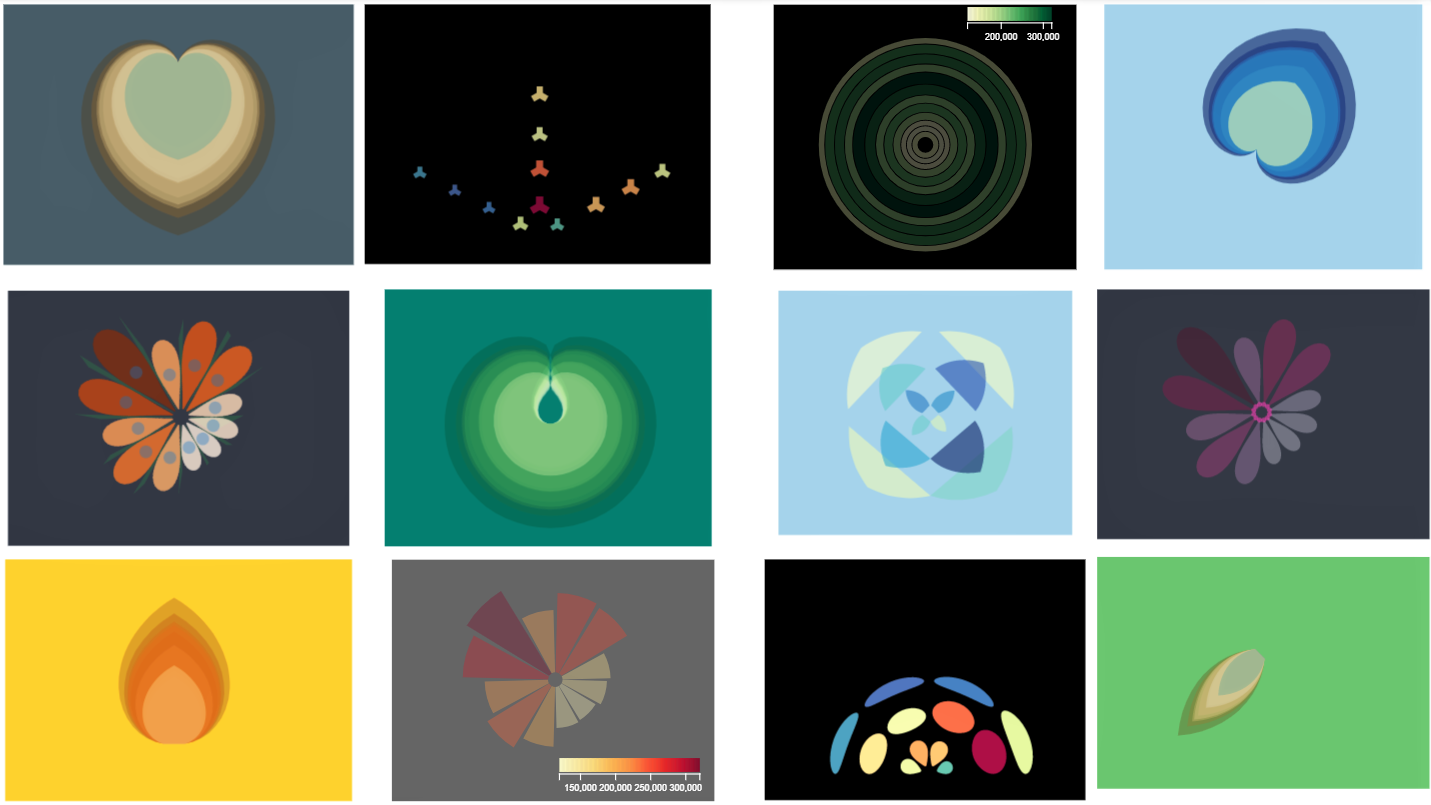

Layout of this report page (visuals, bound fields, positions):
{"tool":"powerbi","page":{"name":"Page 8","canvas":[1280,720],"ordinal":0},"visuals":[{"type":"charticulator58556A88422D44A99D9BF0052B958F87","fields":{"primarykey":["steps_by_month.Month","steps_by_month.Steps"]},"box":[0,0,322,246],"z":0},{"type":"charticulator58556A88422D44A99D9BF0052B958F87","fields":{"primarykey":["steps_by_month.Month","steps_by_month.Steps"]},"box":[677.8,0,295.5,246],"z":1000},{"type":"charticulator58556A88422D44A99D9BF0052B958F87","fields":{"primarykey":["steps_by_month.Month","steps_by_month.Steps"]},"box":[338.9,494.5,309.9,225.5],"z":2000},{"type":"charticulator58556A88422D44A99D9BF0052B958F87","fields":{"primarykey":["steps_by_month.Month","steps_by_month.Steps"]},"box":[677.8,494.5,295.5,225.5],"z":3000},{"type":"charticulator58556A88422D44A99D9BF0052B958F87","fields":{"primarykey":["steps_by_month.Month","steps_by_month.Steps"]},"box":[0,494.5,322,225.5],"z":4000},{"type":"charticulator58556A88422D44A99D9BF0052B958F87","fields":{"primarykey":["steps_by_month.Month","steps_by_month.Steps"]},"box":[658.5,254.5,334.1,227.9],"z":5000},{"type":"charticulator58556A88422D44A99D9BF0052B958F87","fields":{"primarykey":["steps_by_month.Month","steps_by_month.Steps"]},"box":[0,254.5,322,237.6],"z":6000},{"type":"charticulator58556A88422D44A99D9BF0052B958F87","fields":{"primarykey":["steps_by_month.Month","steps_by_month.Steps"]},"box":[973.3,492.1,306.3,227.9],"z":7000},{"type":"charticulator58556A88422D44A99D9BF0052B958F87","fields":{"primarykey":["steps_by_month.Month","steps_by_month.Steps"]},"box":[973.3,0,306.3,246],"z":8000},{"type":"charticulator58556A88422D44A99D9BF0052B958F87","fields":{"primarykey":["steps_by_month.Month","steps_by_month.Steps"]},"box":[973.3,253.3,306.3,241.2],"z":9000},{"type":"charticulator58556A88422D44A99D9BF0052B958F87","fields":{"primarykey":["steps_by_month.Month","steps_by_month.Steps"]},"box":[338.9,253.3,301.5,240],"z":10000},{"type":"charticulator58556A88422D44A99D9BF0052B958F87","fields":{"primarykey":["steps_by_month.Month","steps_by_month.Steps"]},"box":[322,0,318.4,246],"z":11000}]}

Visuals, with their boxes in screenshot pixels (x1, y1, x2, y2), scaled from the page's 1280x720 canvas onto the 1431x805 screenshot:
charticulator58556A88422D44A99D9BF0052B958F87 - steps_by_month.Month x steps_by_month.Steps: <region>0, 0, 360, 275</region>
charticulator58556A88422D44A99D9BF0052B958F87 - steps_by_month.Month x steps_by_month.Steps: <region>758, 0, 1088, 275</region>
charticulator58556A88422D44A99D9BF0052B958F87 - steps_by_month.Month x steps_by_month.Steps: <region>379, 553, 725, 804</region>
charticulator58556A88422D44A99D9BF0052B958F87 - steps_by_month.Month x steps_by_month.Steps: <region>758, 553, 1088, 804</region>
charticulator58556A88422D44A99D9BF0052B958F87 - steps_by_month.Month x steps_by_month.Steps: <region>0, 553, 360, 804</region>
charticulator58556A88422D44A99D9BF0052B958F87 - steps_by_month.Month x steps_by_month.Steps: <region>736, 285, 1110, 539</region>
charticulator58556A88422D44A99D9BF0052B958F87 - steps_by_month.Month x steps_by_month.Steps: <region>0, 285, 360, 550</region>
charticulator58556A88422D44A99D9BF0052B958F87 - steps_by_month.Month x steps_by_month.Steps: <region>1088, 550, 1430, 804</region>
charticulator58556A88422D44A99D9BF0052B958F87 - steps_by_month.Month x steps_by_month.Steps: <region>1088, 0, 1430, 275</region>
charticulator58556A88422D44A99D9BF0052B958F87 - steps_by_month.Month x steps_by_month.Steps: <region>1088, 283, 1430, 553</region>
charticulator58556A88422D44A99D9BF0052B958F87 - steps_by_month.Month x steps_by_month.Steps: <region>379, 283, 716, 552</region>
charticulator58556A88422D44A99D9BF0052B958F87 - steps_by_month.Month x steps_by_month.Steps: <region>360, 0, 716, 275</region>
